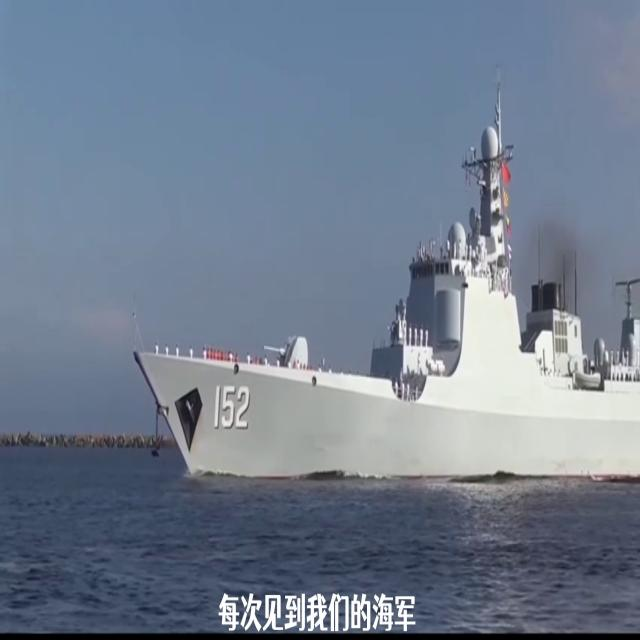navalvessels: (136, 119, 640, 488)
